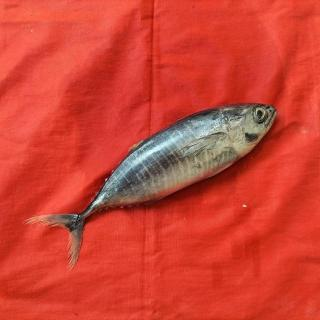Ikan: (17, 98, 295, 280)
